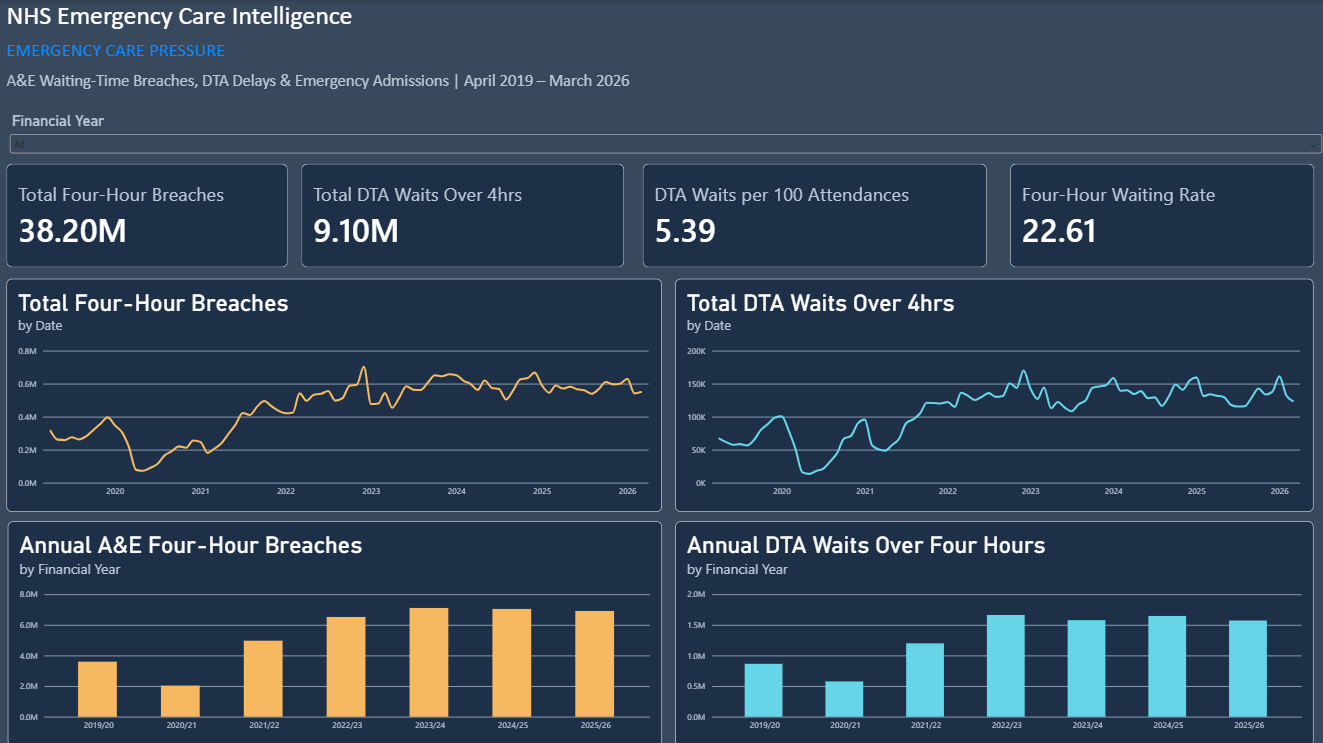

What the dashboard file says about the page in this screenshot:
{"tool":"powerbi","page":{"name":"Emergency Care Pressure","canvas":[1920,1080],"ordinal":2},"visuals":[{"type":"textbox","box":[10.3,0,526.9,55.6],"z":0},{"type":"textbox","box":[10.3,55.6,526.9,45.3],"z":1000},{"type":"textbox","box":[10.3,100.9,922.1,45.3],"z":2000},{"type":"slicer","fields":{"Values":["Dim_Financial_Year.Financial Year"]},"box":[10.3,162.6,1910.1,88.5],"z":3000},{"type":"cardVisual","fields":{"Data":["Fact_AE_Monthly.Total Four-Hour Breaches KPI"]},"box":[10.3,236.7,407.5,150.3],"z":4000},{"type":"cardVisual","fields":{"Data":["Fact_AE_Monthly.Total DTA Waits Over 4hrs KPI"]},"box":[438.4,236.7,467.2,150.3],"z":5000},{"type":"cardVisual","fields":{"Data":["Fact_AE_Monthly.DTA Waits per 100 Attendances KPI"]},"box":[932.4,236.7,498.1,150.3],"z":6000},{"type":"cardVisual","fields":{"Data":["Fact_AE_Monthly.Four-Hour Waiting Rate KPI"]},"box":[1463.5,236.7,440.5,150.3],"z":7000},{"type":"lineChart","fields":{"Category":["Fact_AE_Monthly.Date"],"Y":["Fact_AE_Monthly.Total Four-Hour Breaches KPI"]},"box":[10.3,403.4,948.9,337.6],"z":8000},{"type":"lineChart","fields":{"Category":["Fact_AE_Monthly.Date"],"Y":["Fact_AE_Monthly.Total DTA Waits Over 4hrs KPI"]},"box":[979.8,403.4,924.2,337.6],"z":9000},{"type":"clusteredColumnChart","fields":{"Category":["Dim_Financial_Year.Financial Year"],"Y":["Fact_AE_Monthly.Total Four-Hour Breaches KPI"]},"box":[12.3,755.4,946.8,325.2],"z":10000},{"type":"clusteredColumnChart","fields":{"Category":["Dim_Financial_Year.Financial Year"],"Y":["Fact_AE_Monthly.Total DTA Waits Over 4hrs KPI"]},"box":[979.8,755.4,924.2,325.2],"z":11000}]}

Visuals, with their boxes in screenshot pixels (x1, y1, x2, y2), scaled from the page's 1920x1080 canvas onto the 1323x743 screenshot:
textbox: (x1=7, y1=0, x2=370, y2=38)
textbox: (x1=7, y1=38, x2=370, y2=69)
textbox: (x1=7, y1=69, x2=642, y2=101)
slicer - Dim_Financial_Year.Financial Year: (x1=7, y1=112, x2=1322, y2=173)
cardVisual - Fact_AE_Monthly.Total Four-Hour Breaches KPI: (x1=7, y1=163, x2=288, y2=266)
cardVisual - Fact_AE_Monthly.Total DTA Waits Over 4hrs KPI: (x1=302, y1=163, x2=624, y2=266)
cardVisual - Fact_AE_Monthly.DTA Waits per 100 Attendances KPI: (x1=642, y1=163, x2=986, y2=266)
cardVisual - Fact_AE_Monthly.Four-Hour Waiting Rate KPI: (x1=1008, y1=163, x2=1312, y2=266)
lineChart - Fact_AE_Monthly.Date x Fact_AE_Monthly.Total Four-Hour Breaches KPI: (x1=7, y1=278, x2=661, y2=510)
lineChart - Fact_AE_Monthly.Date x Fact_AE_Monthly.Total DTA Waits Over 4hrs KPI: (x1=675, y1=278, x2=1312, y2=510)
clusteredColumnChart - Dim_Financial_Year.Financial Year x Fact_AE_Monthly.Total Four-Hour Breaches KPI: (x1=8, y1=520, x2=661, y2=742)
clusteredColumnChart - Dim_Financial_Year.Financial Year x Fact_AE_Monthly.Total DTA Waits Over 4hrs KPI: (x1=675, y1=520, x2=1312, y2=742)
